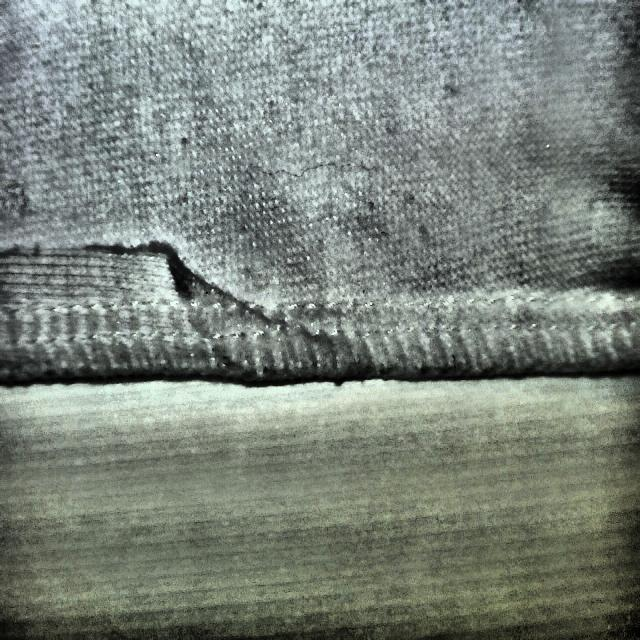seam: (0, 223, 294, 385)
